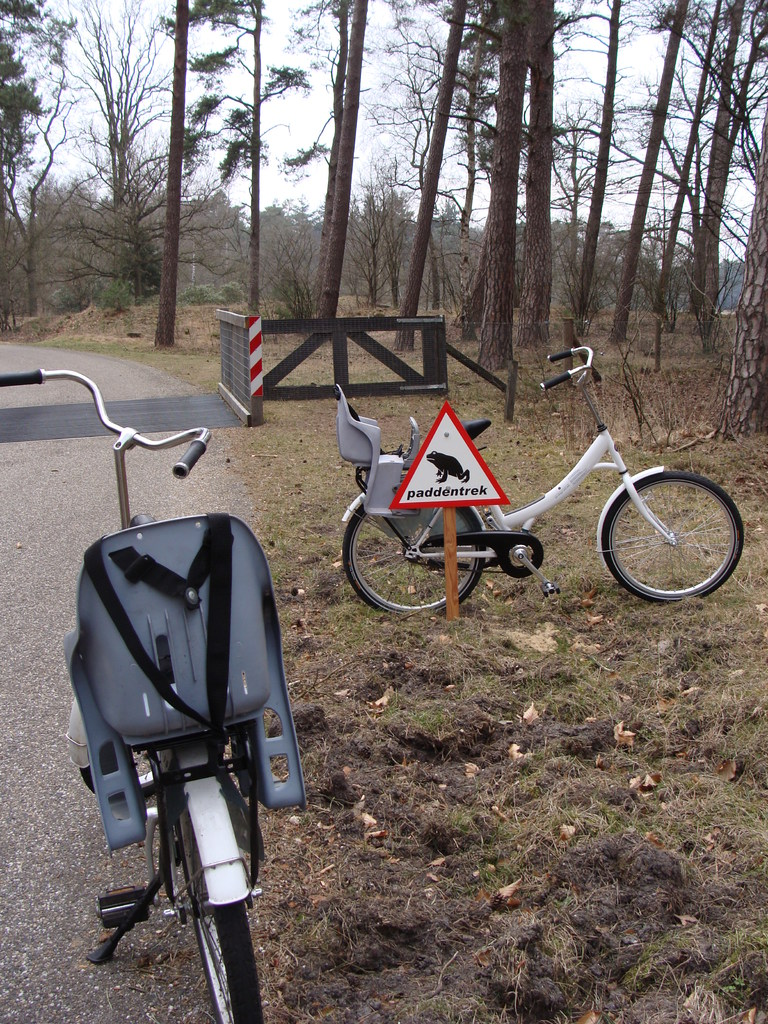Bike_away: (11, 358, 309, 1024)
